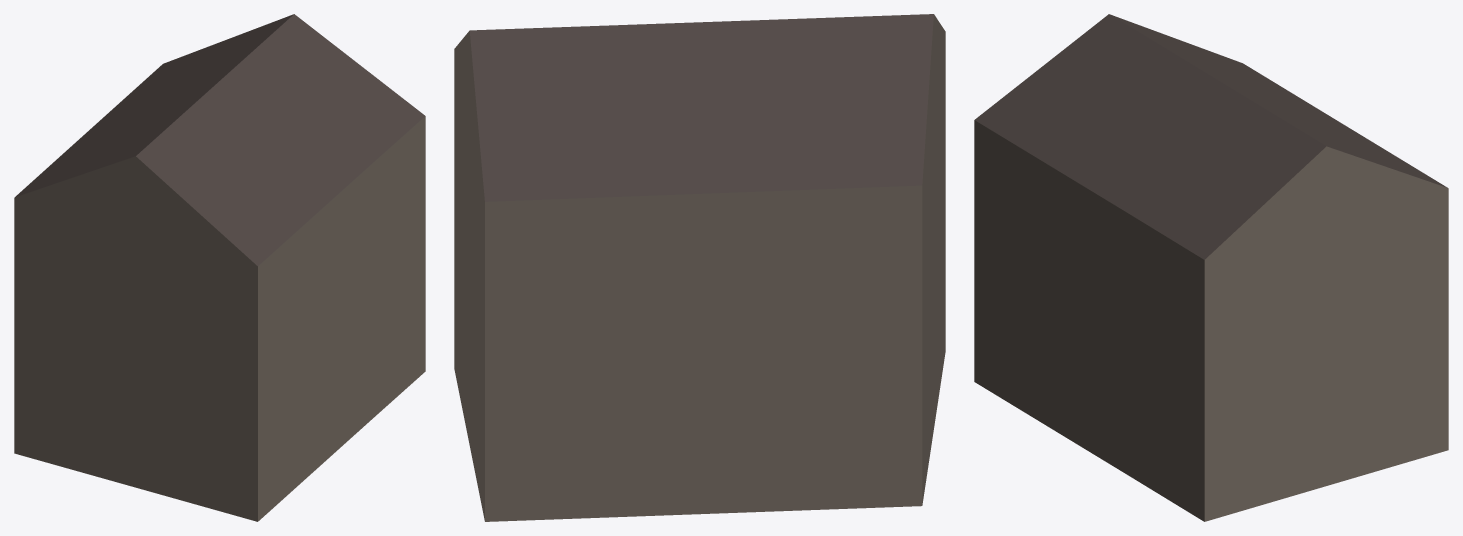
3 renders of one model, left to right at view 1: azimuth 30°, elevation 25°; view 2: azimuth 150°, elevation 25°; view 3: azimuth 270°, elevation 25°, orthographic. The views are drawn at different scales.
Visible parts, largest first — view 1: HP-w1513026732; view 2: HP-w1513026732; view 3: HP-w1513026732.
Boxes of the visible parts, x1,y1,x2,y2 form: HP-w1513026732: [14, 14, 425, 521]; HP-w1513026732: [454, 14, 945, 521]; HP-w1513026732: [974, 14, 1448, 521].
Size of the model in its own units: 9.64 by 7.78 by 9.85.
